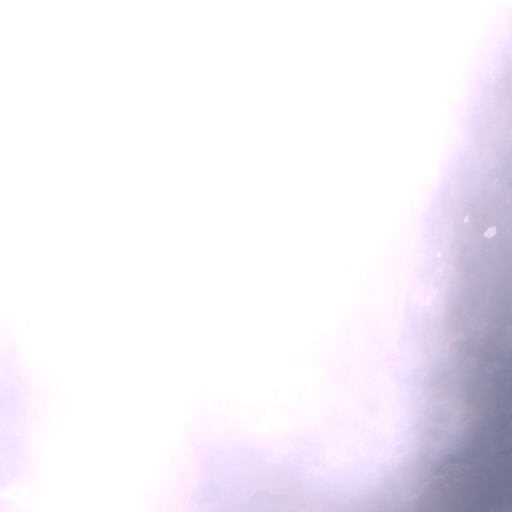Iceberg: (484, 227, 495, 237), (464, 216, 468, 222), (437, 253, 440, 256)
